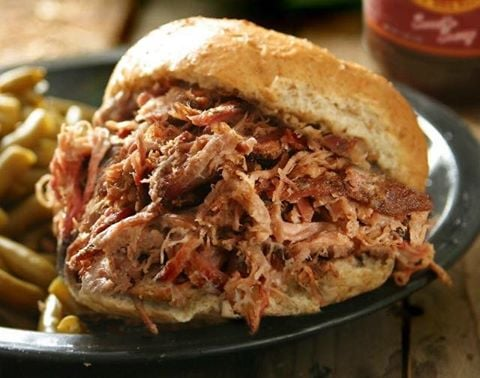soup: (39, 16, 443, 332)
sushi: (361, 1, 480, 107)
